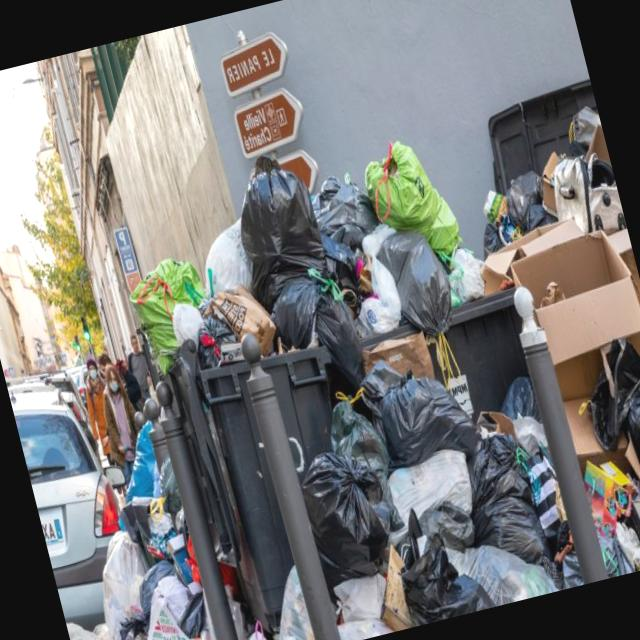garbage: (111, 39, 640, 640)
